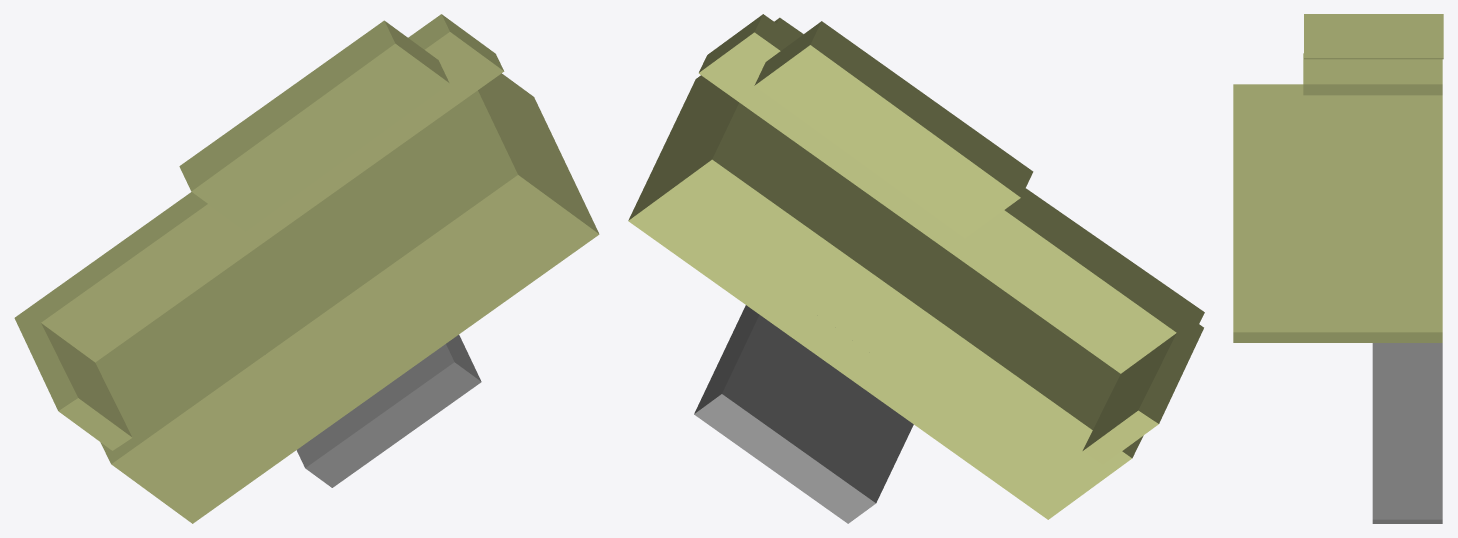
The picture shows the model from 3 angles, left to right: view 1: azimuth 30°, elevation 25°; view 2: azimuth 150°, elevation 25°; view 3: azimuth 270°, elevation 25°; orthographic projection. The views are drawn at different scales.
Parts seen in each view (by area): view 1: 0_1_1_3_2_3_0_3_0; view 2: 0_1_1_3_2_3_0_3_0; view 3: 0_1_1_3_2_3_0_3_0.
Part boxes in pixels (bbox=[...]): 0_1_1_3_2_3_0_3_0: bbox=[14, 14, 599, 523]; 0_1_1_3_2_3_0_3_0: bbox=[628, 14, 1204, 523]; 0_1_1_3_2_3_0_3_0: bbox=[1233, 14, 1443, 523].
Size of the model in its own units: 32.14 by 26.1 by 9.03.
